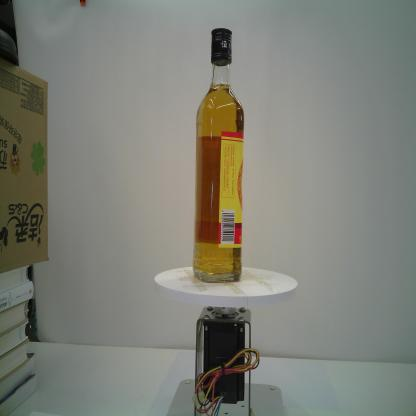Seasoner: (192, 25, 244, 283)
